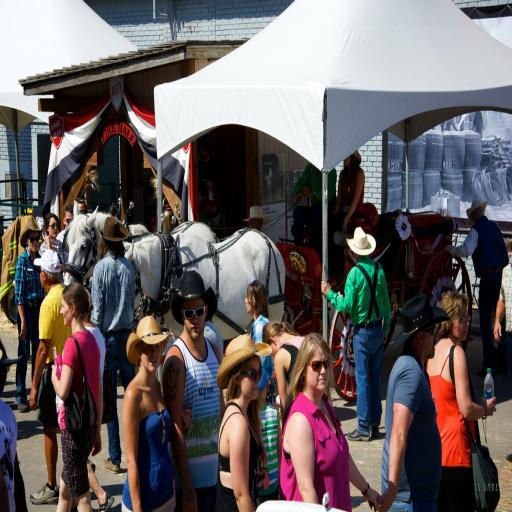Horse: (62, 198, 218, 330), (122, 226, 286, 341), (62, 199, 151, 290)
